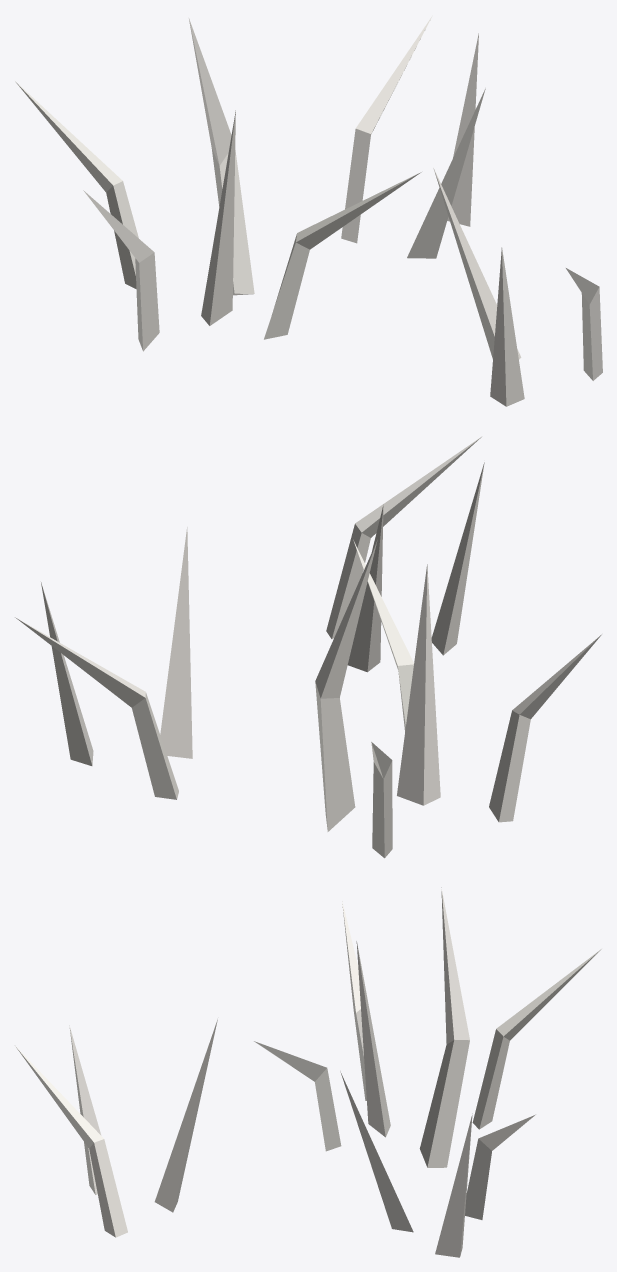
File: Model_Frost_Plants2.fbx
The picture shows the model from 3 angles, top to bottom: view 1: azimuth 30°, elevation 25°; view 2: azimuth 150°, elevation 25°; view 3: azimuth 270°, elevation 25°; orthographic projection. The views are drawn at different scales.
Parts seen in each view (by area): view 1: cao2; view 2: cao2; view 3: cao2.
Part boxes in pixels (x1=…): cao2: x1=15, y1=15, x2=602, y2=406; cao2: x1=15, y1=436, x2=601, y2=858; cao2: x1=15, y1=887, x2=601, y2=1257.
Size of the model in its own units: 119 by 70.46 by 144.
1 material, 1 textured.
